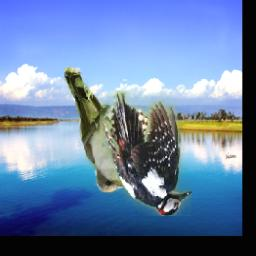Cuckoo: (64, 68, 127, 193)
Woodpecker: (100, 90, 192, 216)
